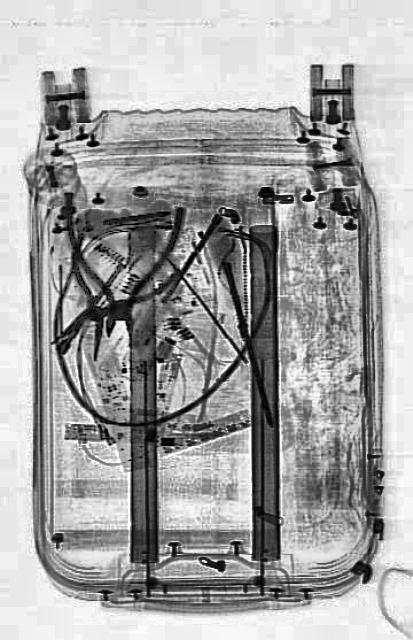Pliers: (50, 214, 178, 388), (63, 188, 183, 334)
